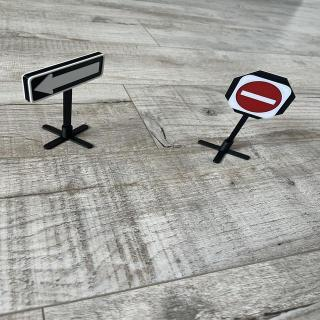sign_noentry: (229, 75, 294, 121)
sign_oneway_left: (22, 53, 106, 105)
